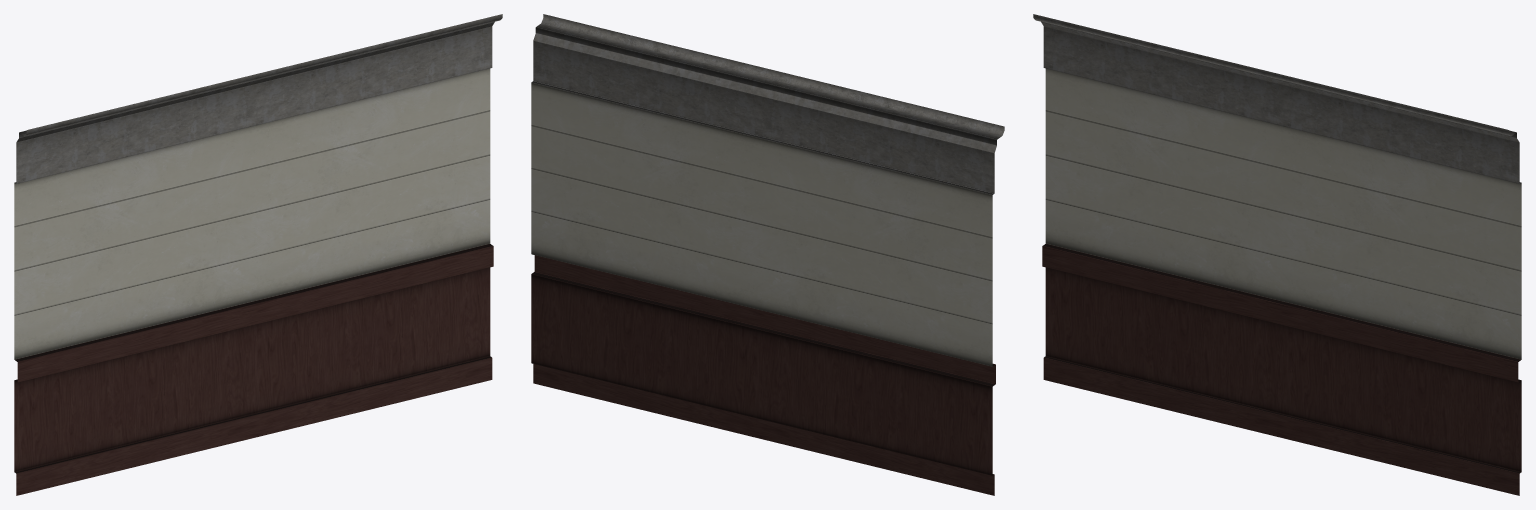
File: Wall 6 4m.fbx
3 views of the same model, side by side, from view 1: azimuth 30°, elevation 25°; view 2: azimuth 150°, elevation 25°; view 3: azimuth 330°, elevation 25° (orthographic). The views are drawn at different scales.
Parts seen in each view (by area): view 1: Wall_6_4m; view 2: Wall_6_4m; view 3: Wall_6_4m.
Part boxes in pixels (left/top/right/bottom): Wall_6_4m: left=14, top=14, right=502, bottom=495; Wall_6_4m: left=531, top=14, right=1004, bottom=495; Wall_6_4m: left=1033, top=14, right=1521, bottom=495.
Size of the model in its own units: 400 by 300 by 18.12.
